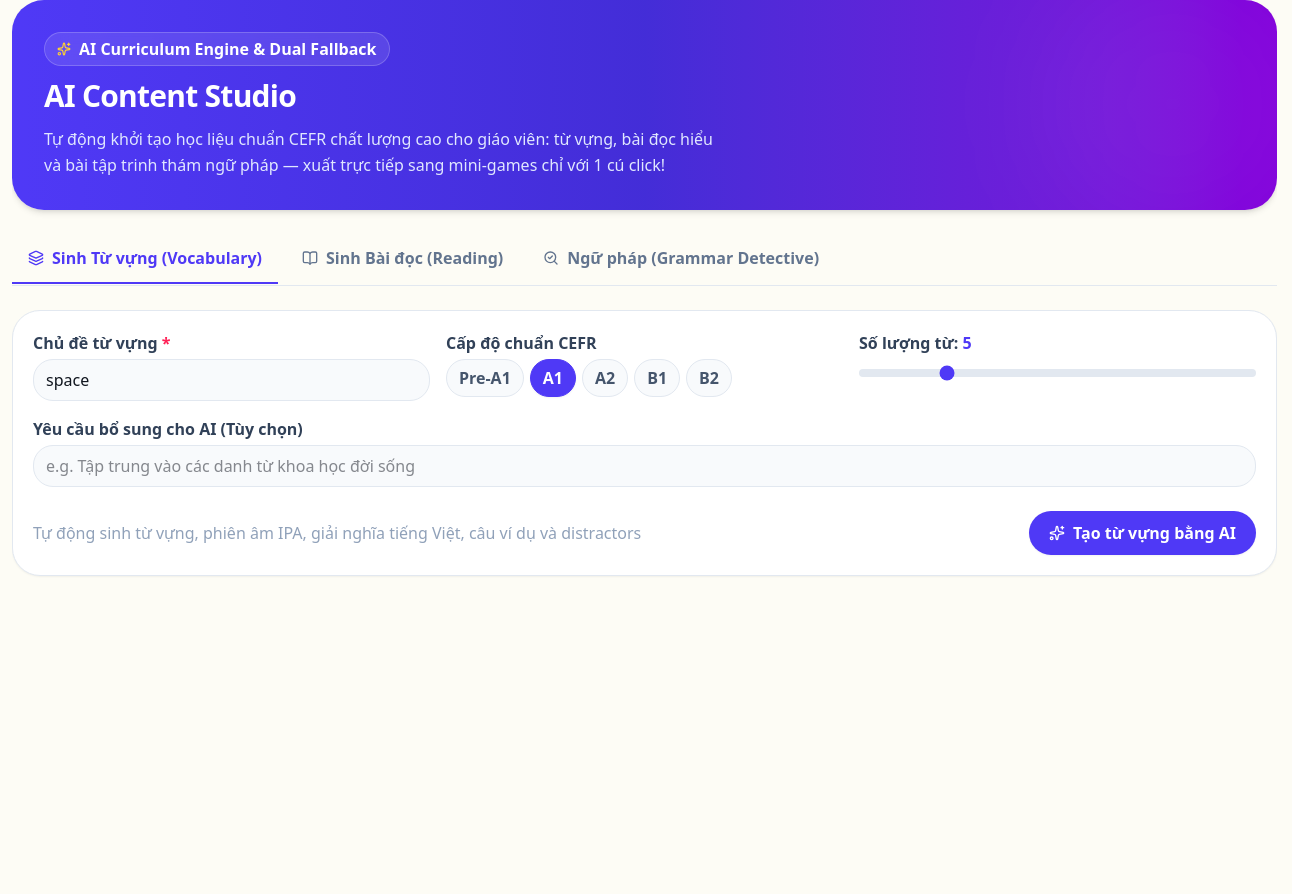
AiContentStudio Component › switches to reading tab and generates reading passage
What coordinates should you click on to do the following:
click the button "Sinh Bài đọc (Reading)"
I would click on:
 (403, 259)
Its box is [286,234,519,284].
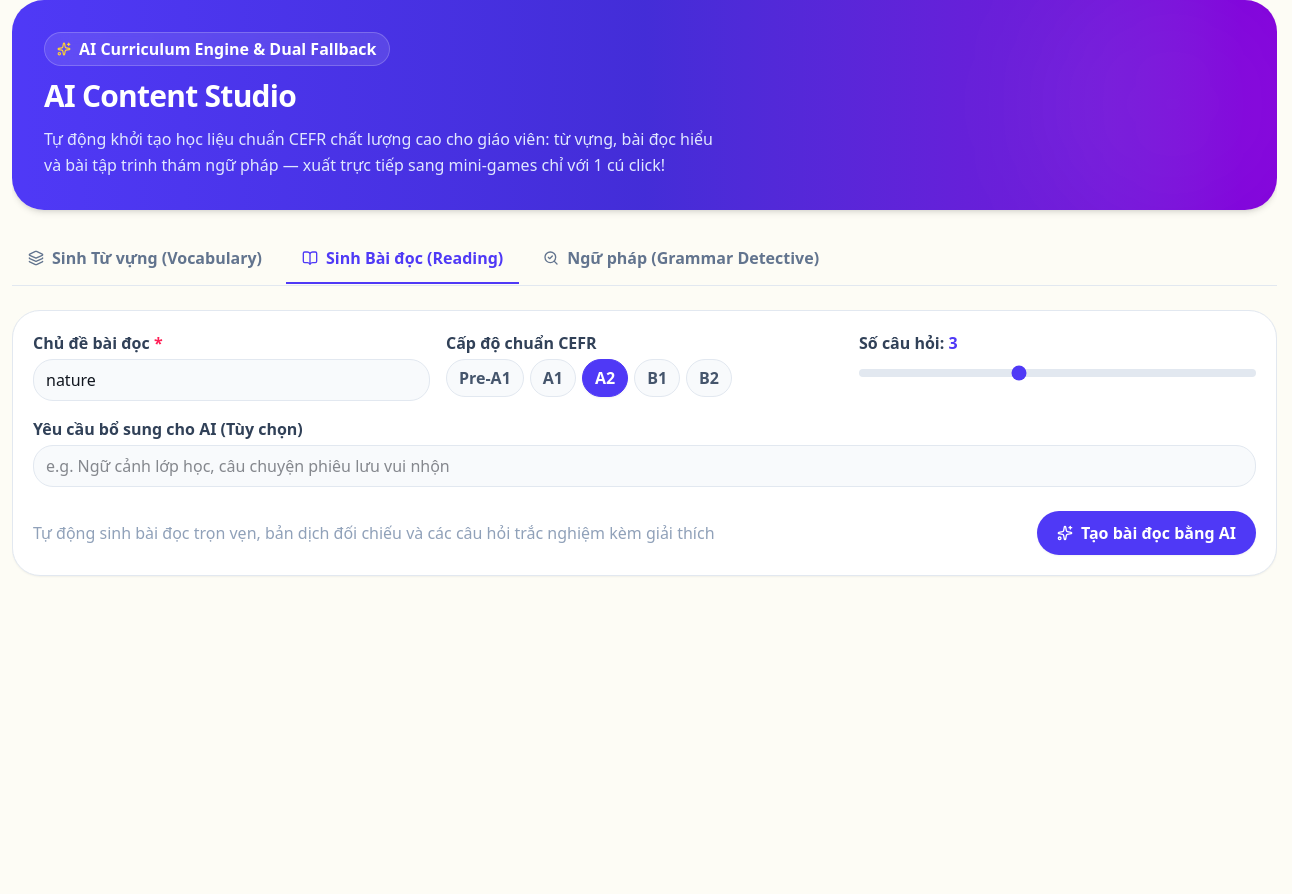
What coordinates should you click on to do the following:
click the button "Tạo bài đọc bằng AI"
I would click on:
 (1146, 533)
Its box is [1037,511,1256,555].
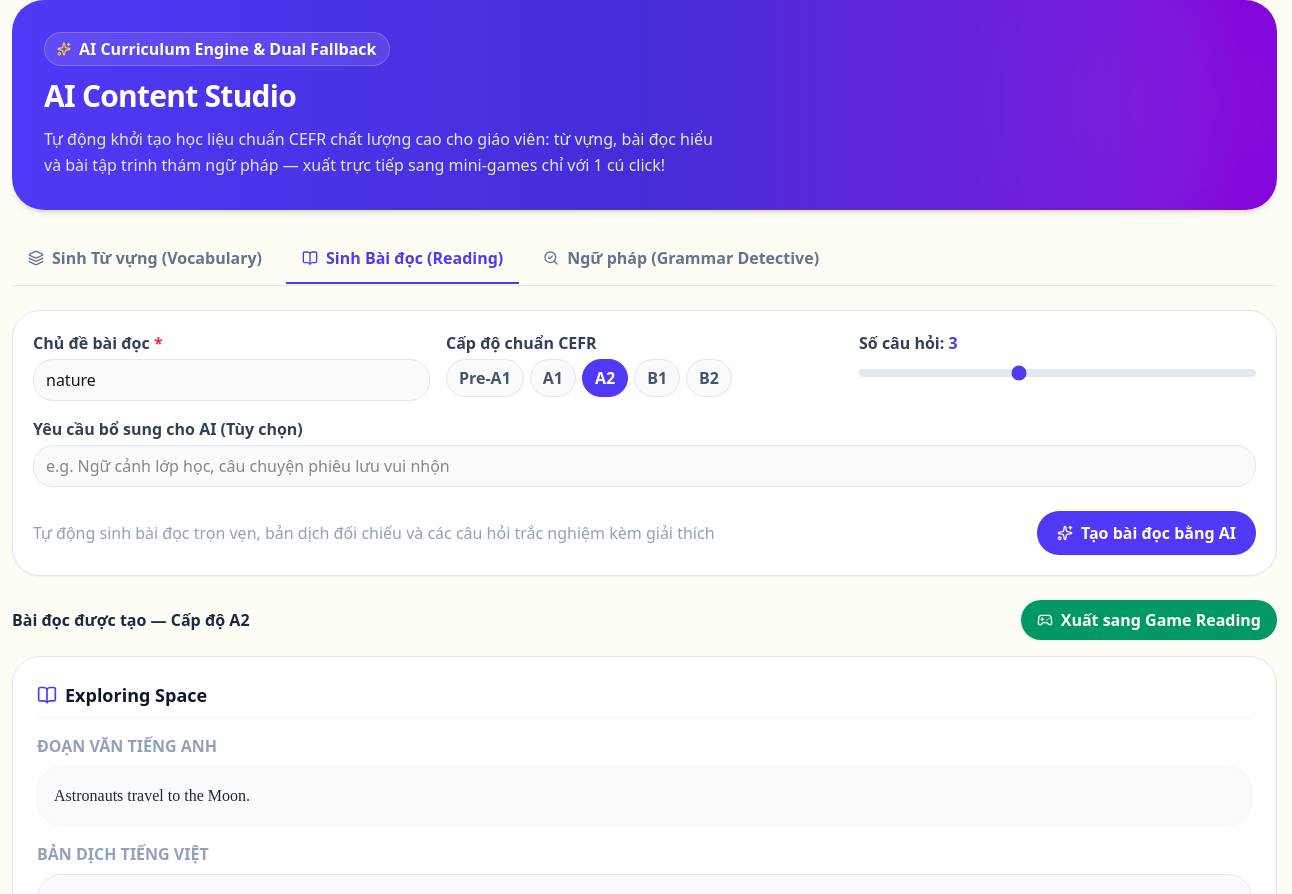
Expected: the heading "Exploring Space" is shown, [65,681,207,709]
Expected: the text "Astronauts travel to the Moon." is shown, [37,766,1252,826]
